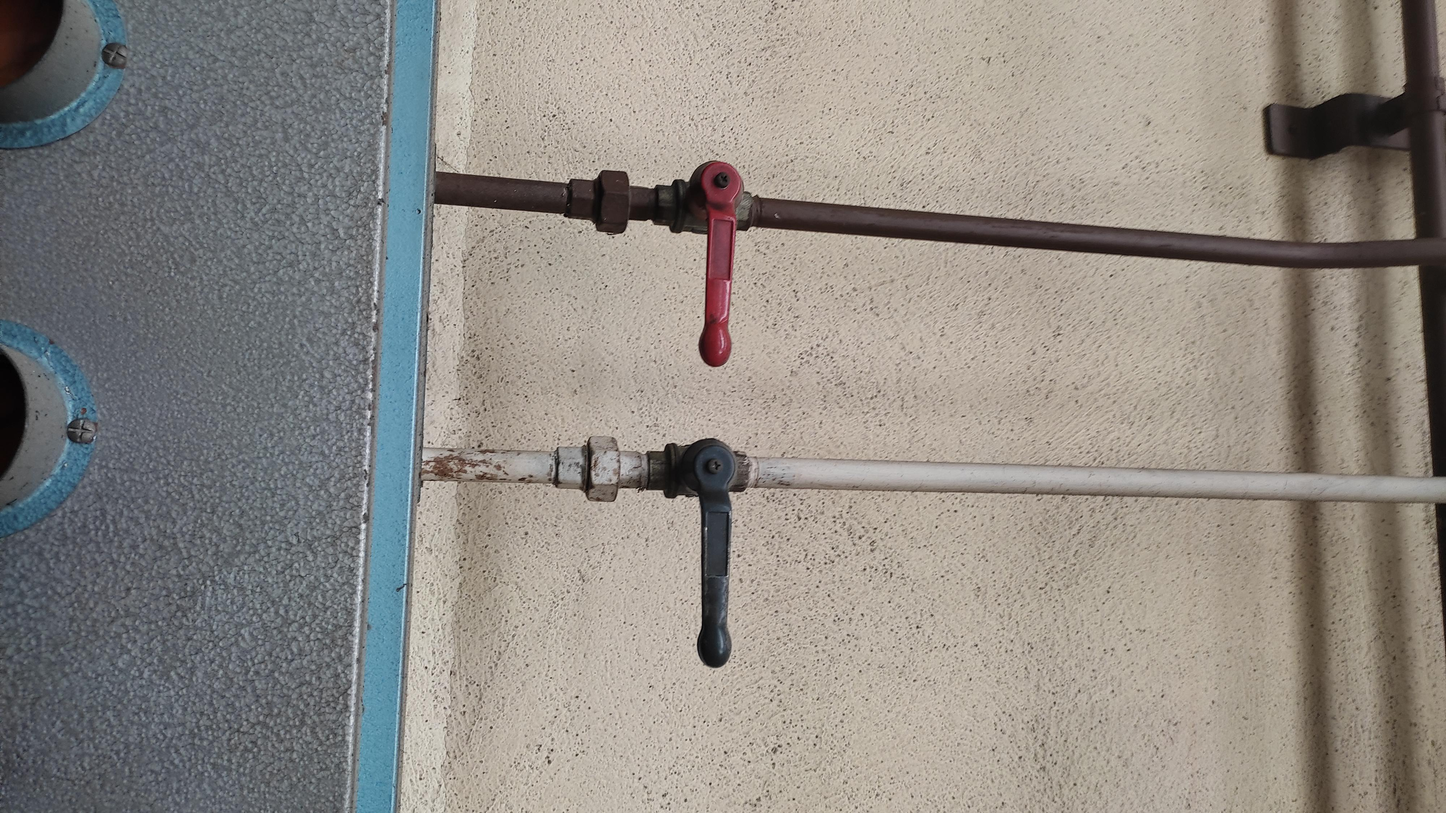closed valve: (643, 433, 753, 670), (661, 156, 757, 368)
